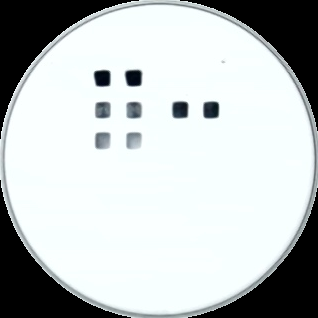检查点: (95, 131, 113, 151), (93, 69, 112, 87), (202, 101, 221, 119), (125, 131, 143, 150), (124, 70, 144, 87), (171, 101, 189, 119), (95, 100, 112, 119), (126, 101, 143, 119)
